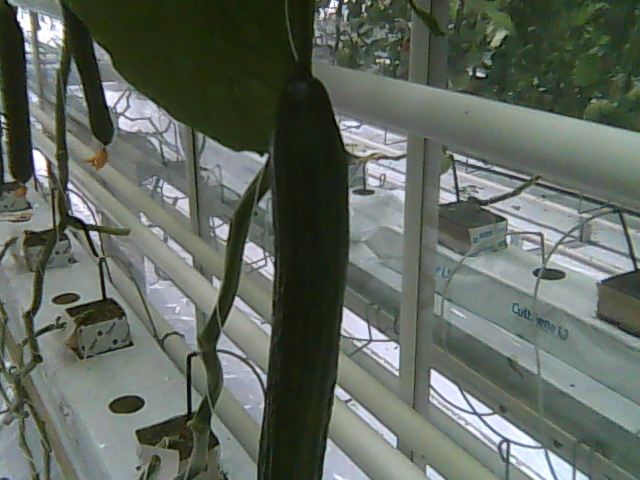concombre: (252, 56, 355, 480), (59, 1, 119, 171), (1, 1, 36, 205)
